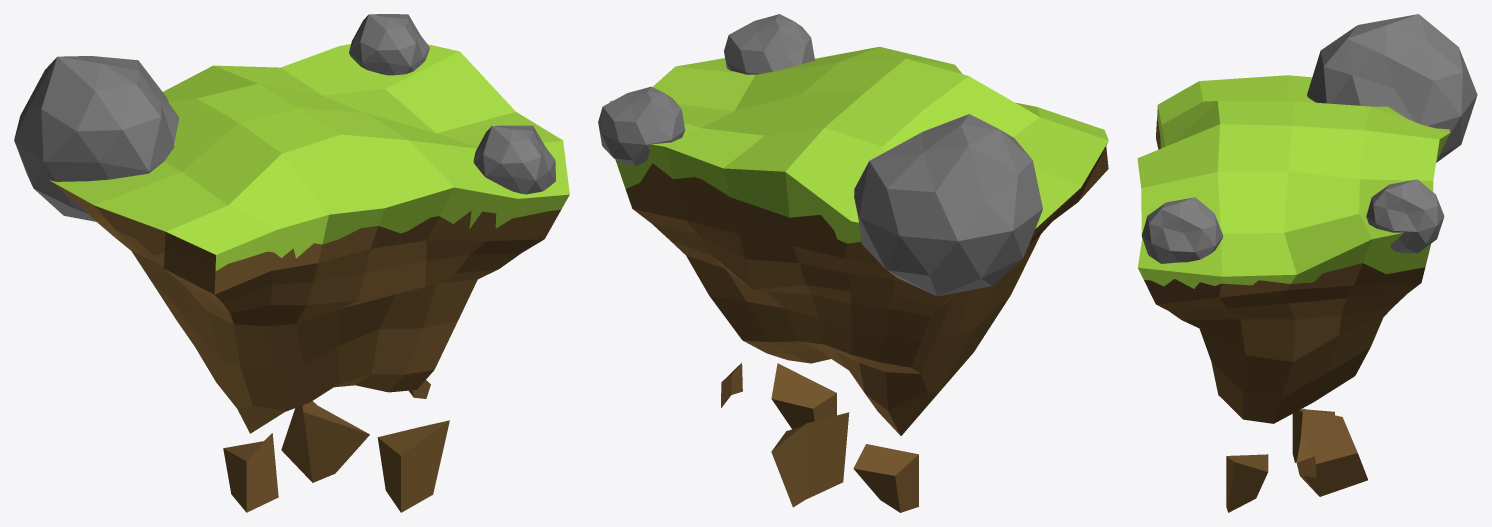
The model's file is FlyingIsland.fbx.
3 renders of one model, left to right at view 1: azimuth 30°, elevation 25°; view 2: azimuth 150°, elevation 25°; view 3: azimuth 270°, elevation 25°, orthographic. The views are drawn at different scales.
Parts seen in each view (by area): view 1: Island1; view 2: Island1; view 3: Island1.
Part boxes in pixels (left/top/right/bottom): Island1: left=14, top=14, right=569, bottom=512; Island1: left=598, top=14, right=1108, bottom=512; Island1: left=1137, top=14, right=1477, bottom=512.
Bounding box in the file's own units: 3597 × 3404 × 2693.
